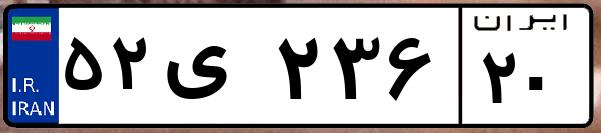0: (525, 38, 570, 115)
2: (270, 28, 330, 110), (475, 38, 525, 113), (110, 28, 158, 98)
3: (330, 28, 385, 110)
5: (57, 26, 110, 100)
6: (385, 28, 445, 110)
ی: (158, 20, 270, 120)
